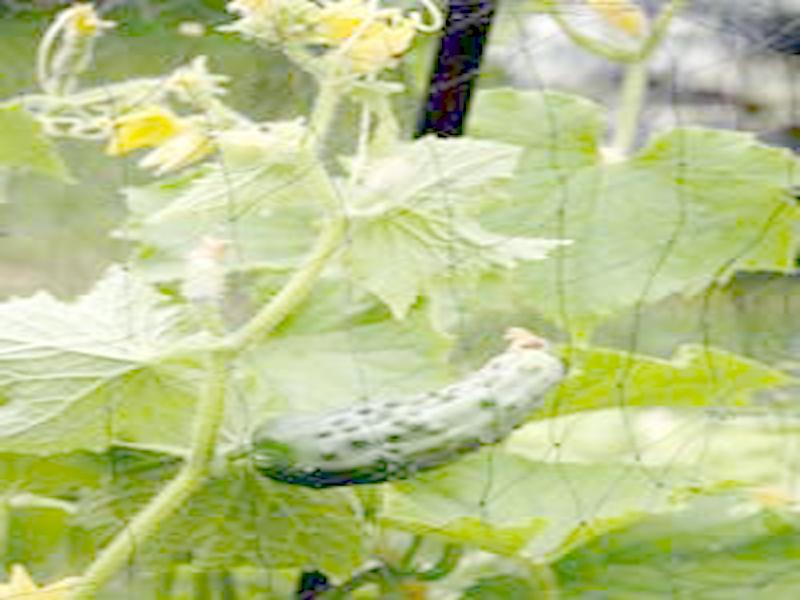Cucumber: (243, 325, 567, 487)
